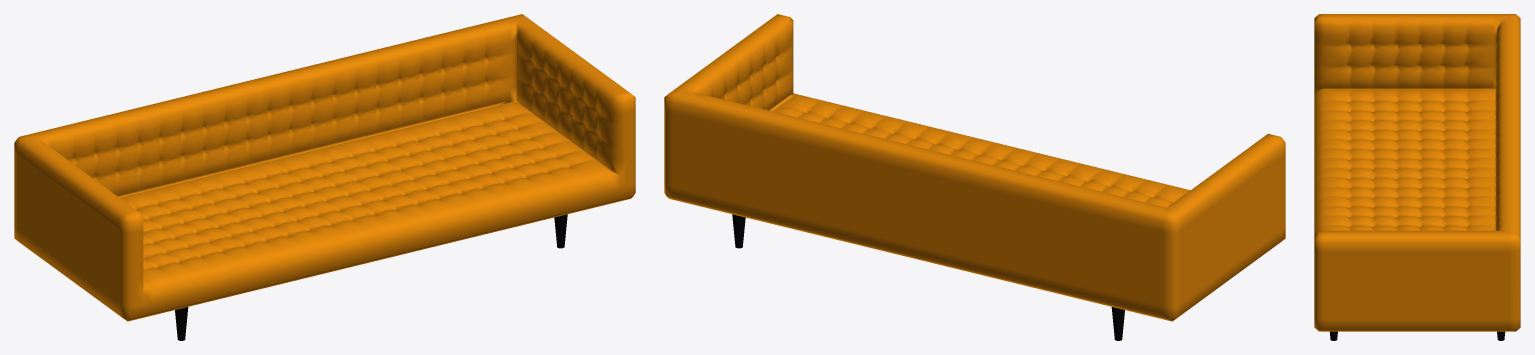
The model's file is mid-century-bench-sofa.glb.
3 renders of one model, left to right at view 1: azimuth 30°, elevation 25°; view 2: azimuth 150°, elevation 25°; view 3: azimuth 270°, elevation 25°, orthographic. The views are drawn at different scales.
Parts seen in each view (by area): view 1: sofa, sofa_legs; view 2: sofa, sofa_legs; view 3: sofa.
Part boxes in pixels (x1,y1,x2,y2): sofa: (14,14,635,321); sofa_legs: (175,214,567,340); sofa: (664,14,1285,321); sofa_legs: (732,214,1124,340); sofa: (1314,14,1520,331).
Bounding box in the file's own units: 2.79 × 0.7493 × 1.07.
